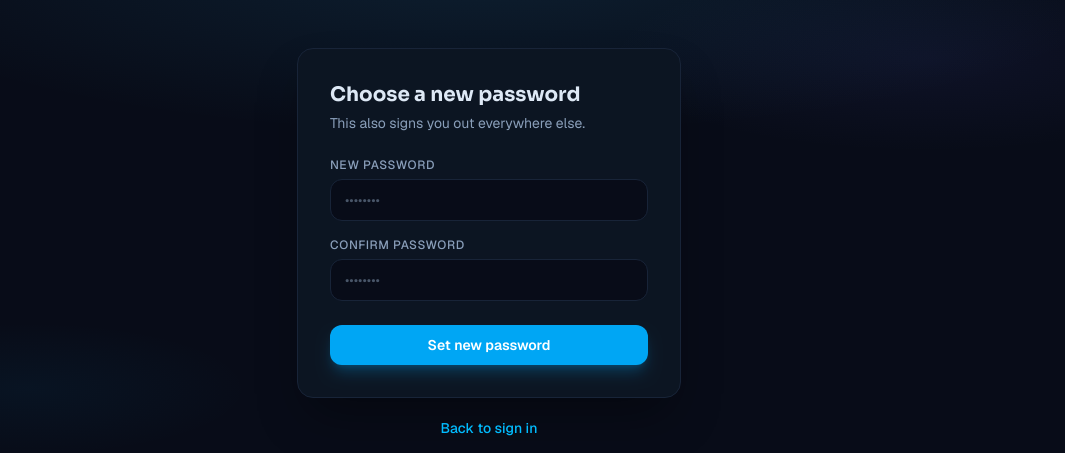
Test: ResetPasswordPage › submits the token from the URL with the new password
In the password field labelled "New password": coordinates (489, 200) [330,179,648,221], type "new-password-1"
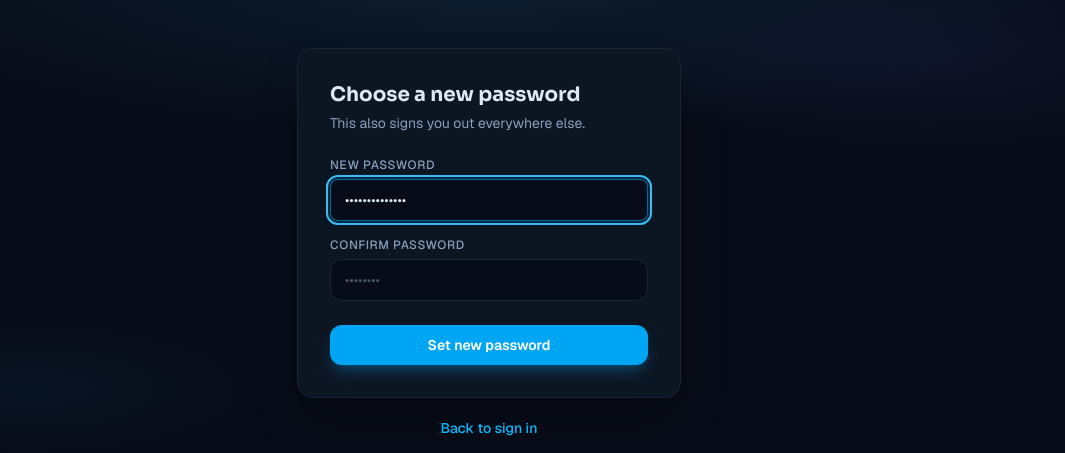
In the password field labelled "Confirm password": coordinates (489, 280) [330,259,648,301], type "new-password-1"
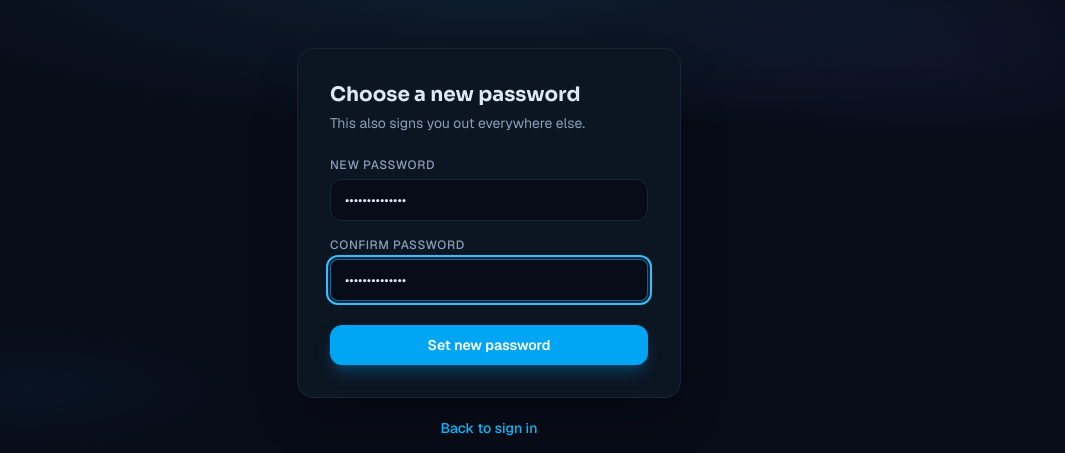
Click the button "Set new password": coordinates (489, 345) [330,325,648,365]
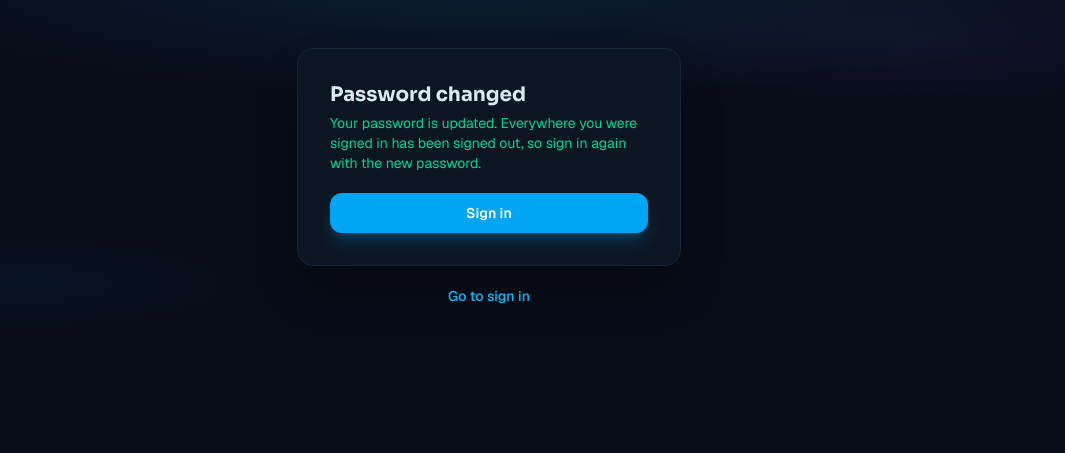
Now the text "signed out" is shown, box [330,114,637,172]
